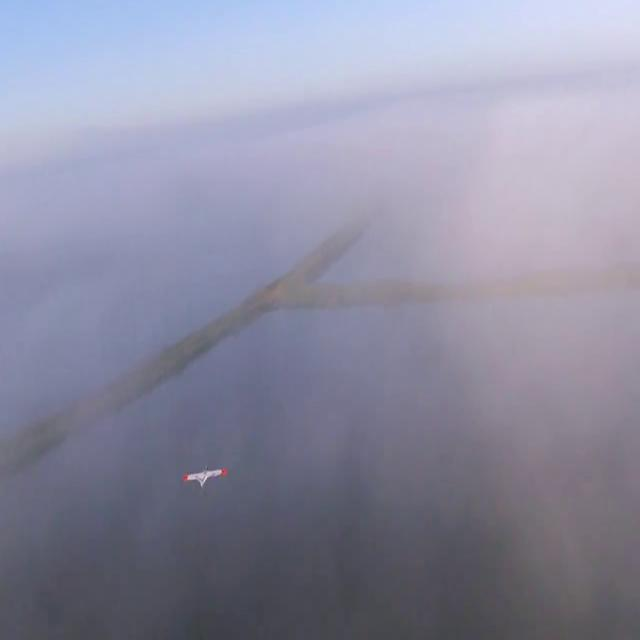iha: (176, 463, 220, 497)
